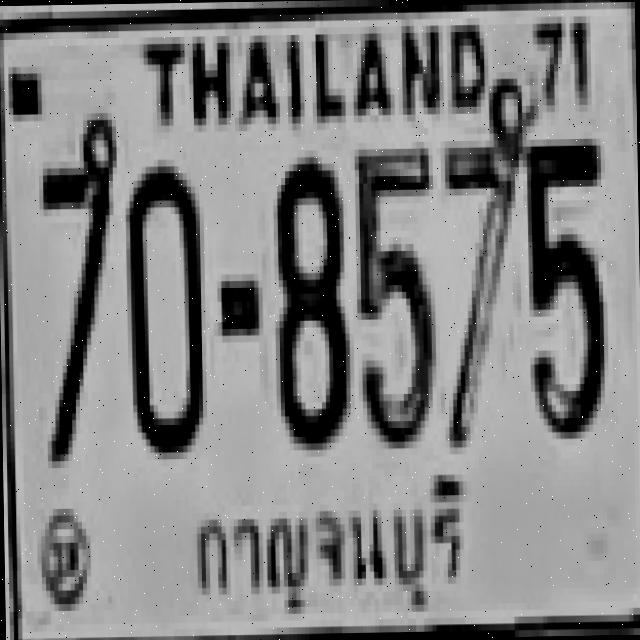0: (124, 162, 203, 449)
5: (352, 141, 435, 442), (522, 132, 601, 432)
7: (38, 126, 122, 461), (440, 136, 519, 444)
8: (272, 149, 346, 443)
Kanchanaburi: (178, 469, 481, 637)
